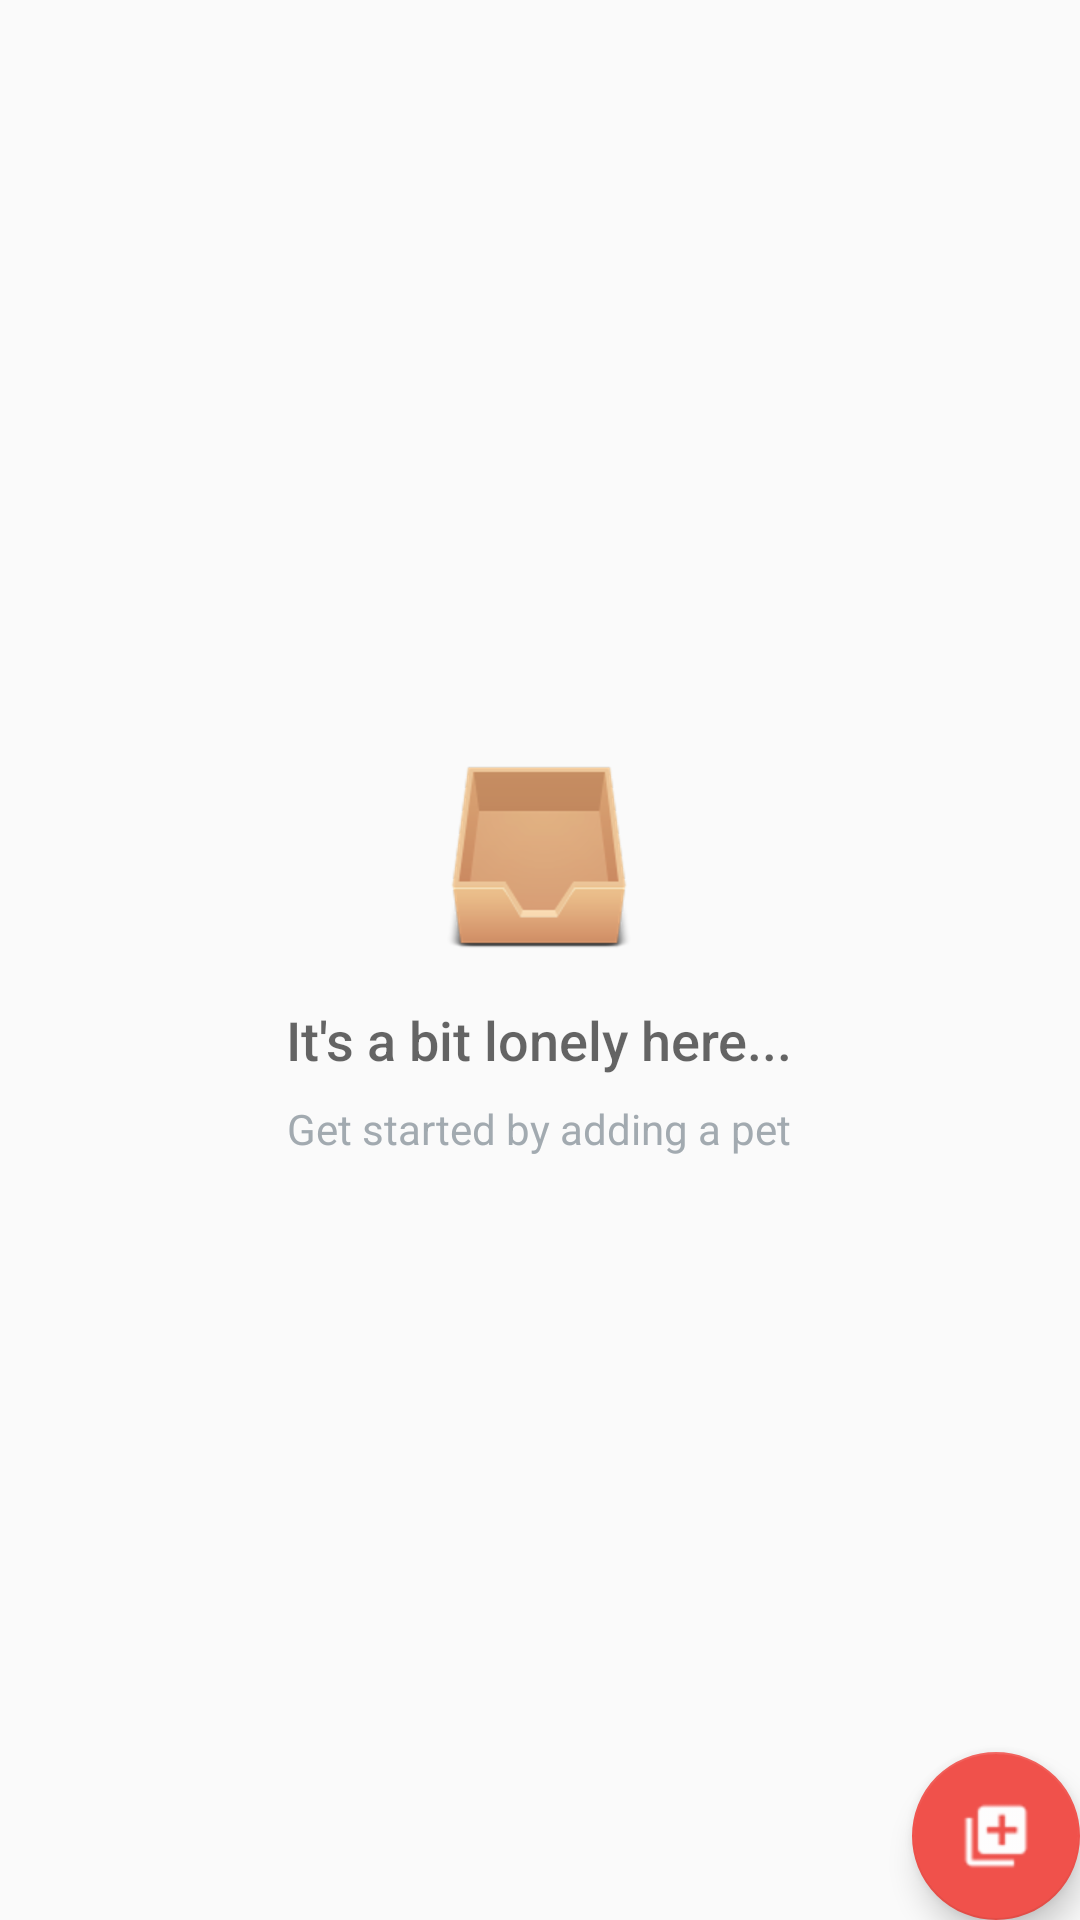

Where icons sit on this 1080×1920 app screen, as (x1, y1, x2, y2):
add item: (912, 1752, 1080, 1920)
empty storehouse: (452, 767, 626, 947)
